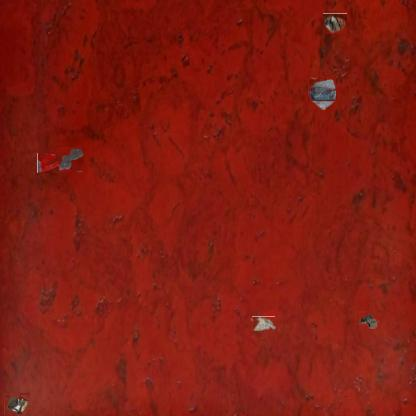dirty: (308, 76, 336, 110), (4, 394, 30, 416), (323, 13, 347, 34), (355, 312, 381, 330), (252, 316, 276, 331)
liquid: (59, 146, 83, 172), (37, 153, 64, 173)
